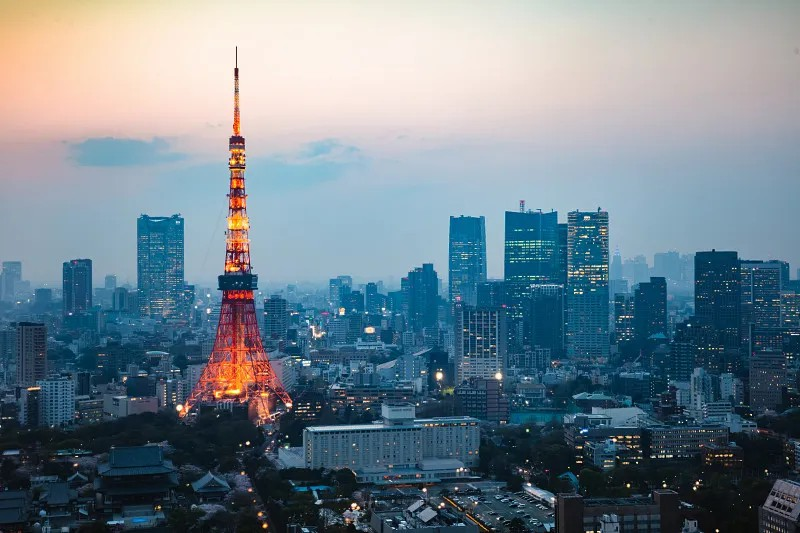Tokyo: (178, 43, 294, 427)
